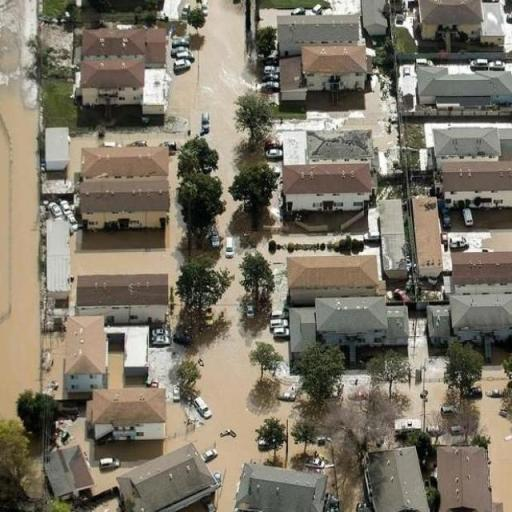flood: (67, 241, 294, 512), (168, 0, 256, 240), (71, 156, 183, 305), (0, 80, 40, 419), (401, 318, 442, 426), (256, 226, 345, 272), (478, 400, 512, 512)
house: (73, 142, 180, 230), (282, 129, 384, 215), (75, 22, 171, 112), (115, 442, 213, 512), (281, 248, 384, 300), (78, 271, 172, 326), (86, 387, 172, 441), (238, 463, 334, 509), (368, 444, 430, 512), (63, 312, 109, 402), (436, 442, 492, 512), (46, 446, 113, 504), (312, 298, 386, 347), (417, 64, 512, 102), (407, 196, 448, 282), (293, 43, 368, 90), (442, 162, 512, 206), (432, 127, 502, 165), (274, 16, 364, 44), (451, 292, 512, 328), (417, 0, 483, 32), (453, 252, 512, 286), (426, 299, 452, 351), (478, 0, 505, 45)
